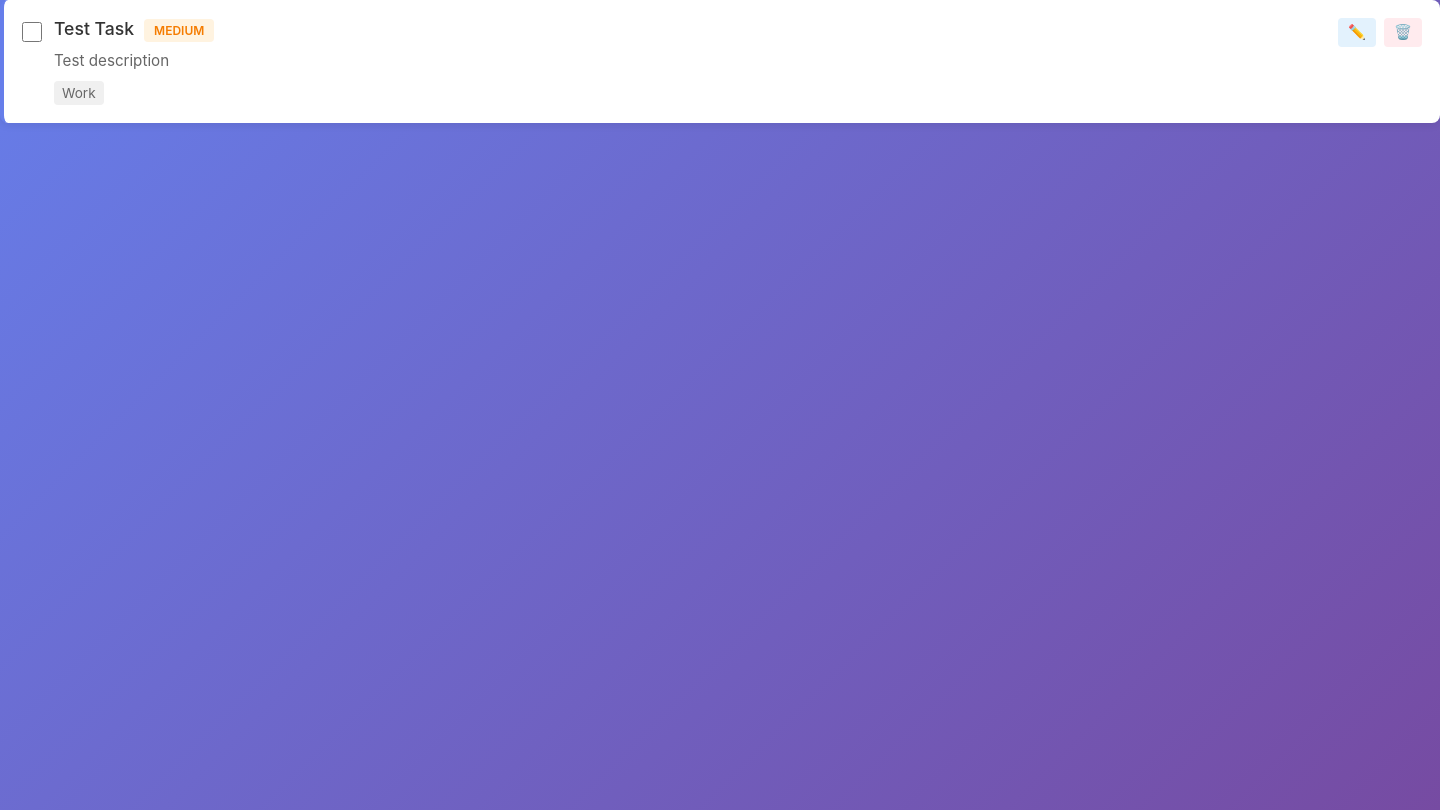
Scenario: TodoItem › switches to edit mode when edit button is clicked
Click the button titled "Edit". click: [1357, 32]
box: 1338,18 -> 1376,47
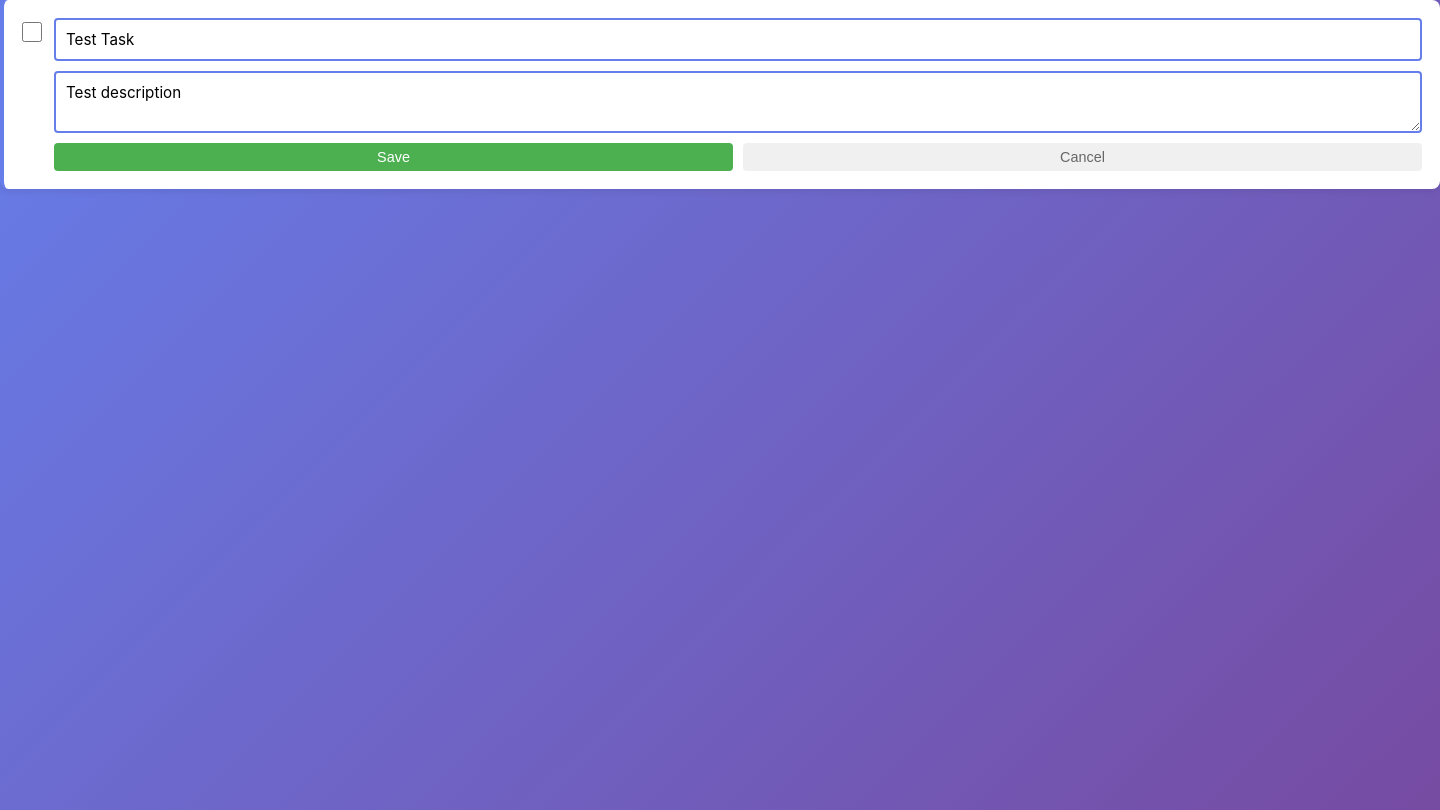
Now the field with placeholder "Title" is shown, box 54,18 -> 1422,61
Now the text box with placeholder "Description" is shown, box 54,71 -> 1422,133
Now the button "Save" is shown, box 54,143 -> 733,171
